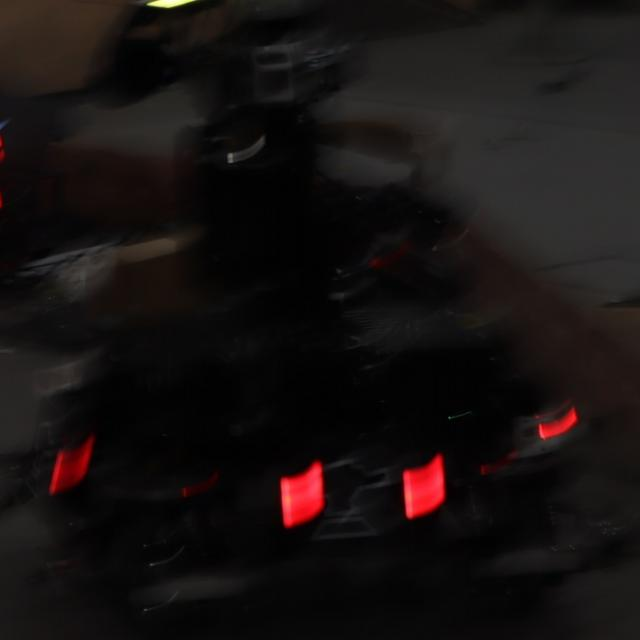Rs: (281, 446, 447, 550)
